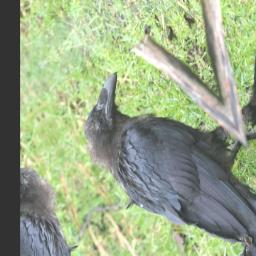Crow: (63, 22, 256, 256)
